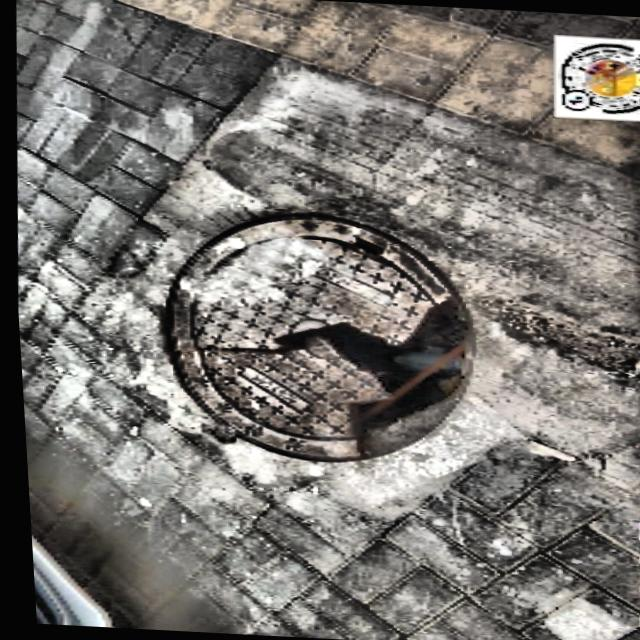Open Manhole: (157, 214, 467, 460)
